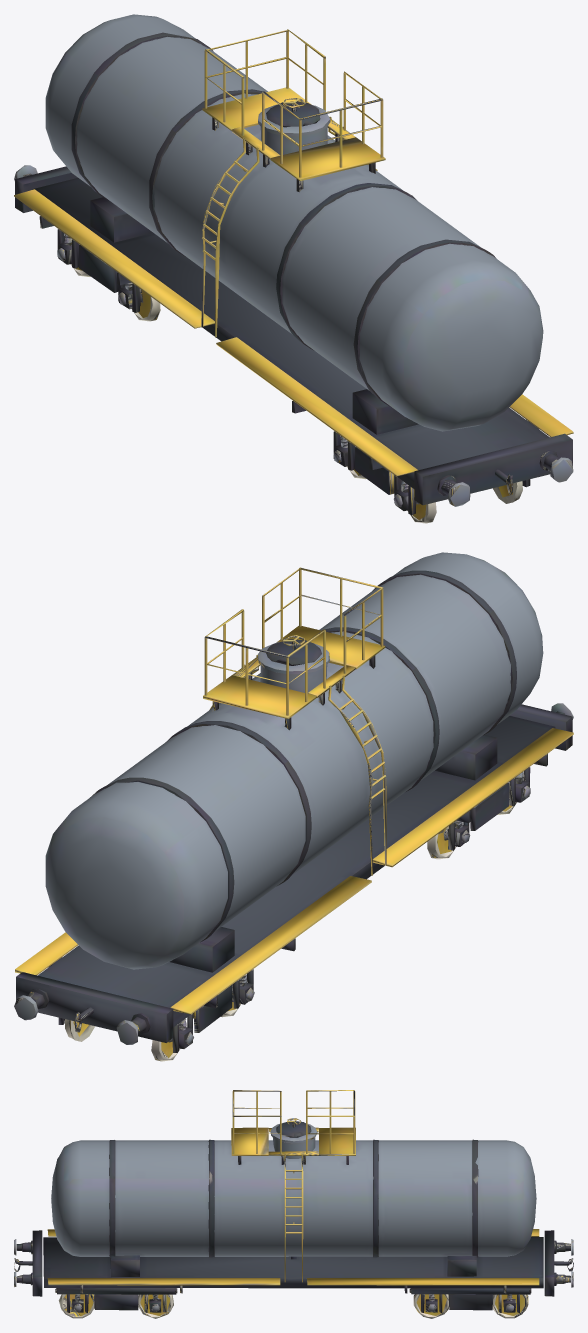
The model's file is tank-car.glb.
3 renders of one model, top to bottom at view 1: azimuth 30°, elevation 25°; view 2: azimuth 150°, elevation 25°; view 3: azimuth 270°, elevation 25°, orthographic. The views are drawn at different scales.
Visible parts, largest first — view 1: tank-car_body; view 2: tank-car_body; view 3: tank-car_body.
Part boxes in pixels (box(x1,y1,x2,y2)): tank-car_body: box(14, 14, 573, 523); tank-car_body: box(14, 552, 573, 1061); tank-car_body: box(14, 1090, 573, 1318).
Size of the model in its own units: 3.04 by 5.15 by 12.97.
Materials: 1 (1 with a texture image).
